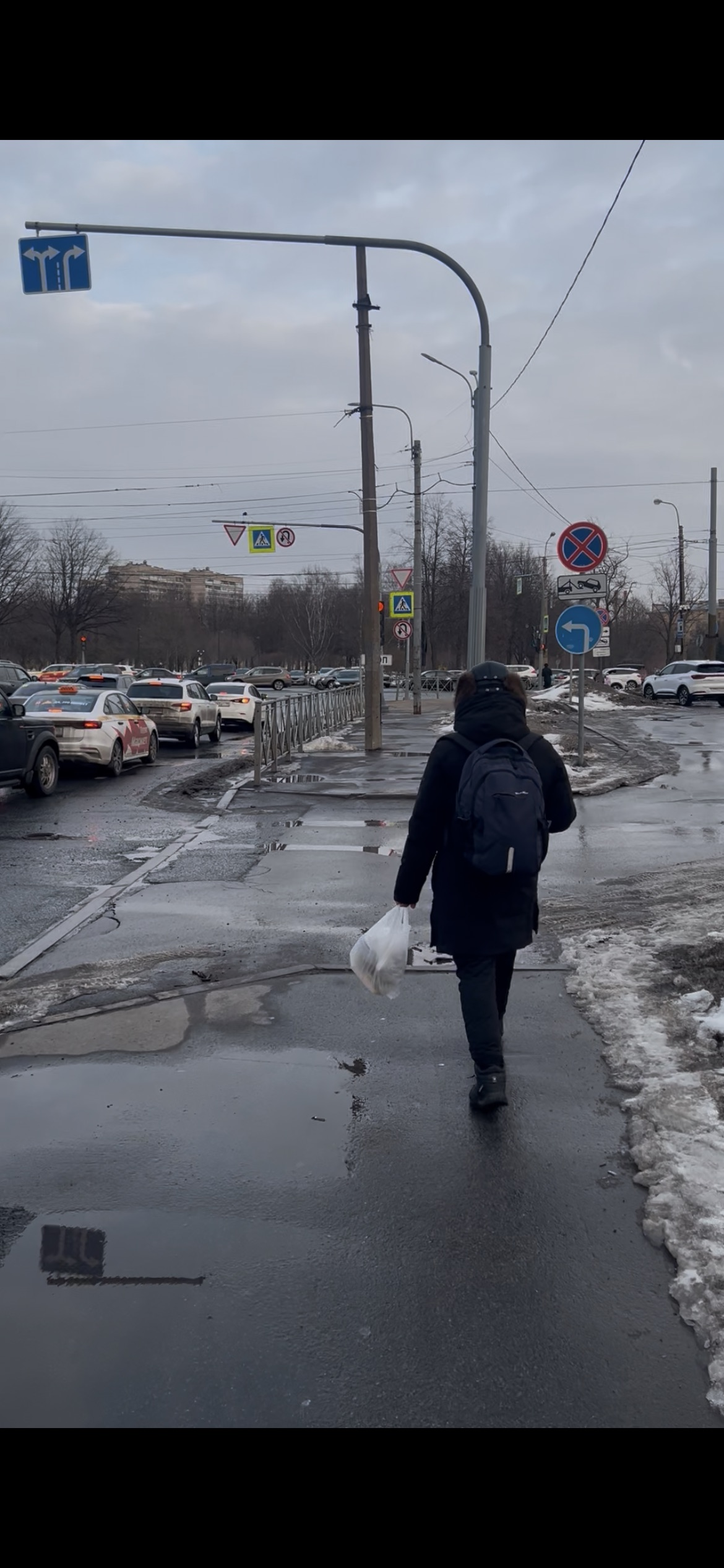road sign: (19, 235, 92, 295), (557, 573, 608, 600), (248, 526, 275, 554), (390, 591, 414, 618), (223, 525, 246, 547), (390, 569, 413, 590), (593, 647, 610, 657)
